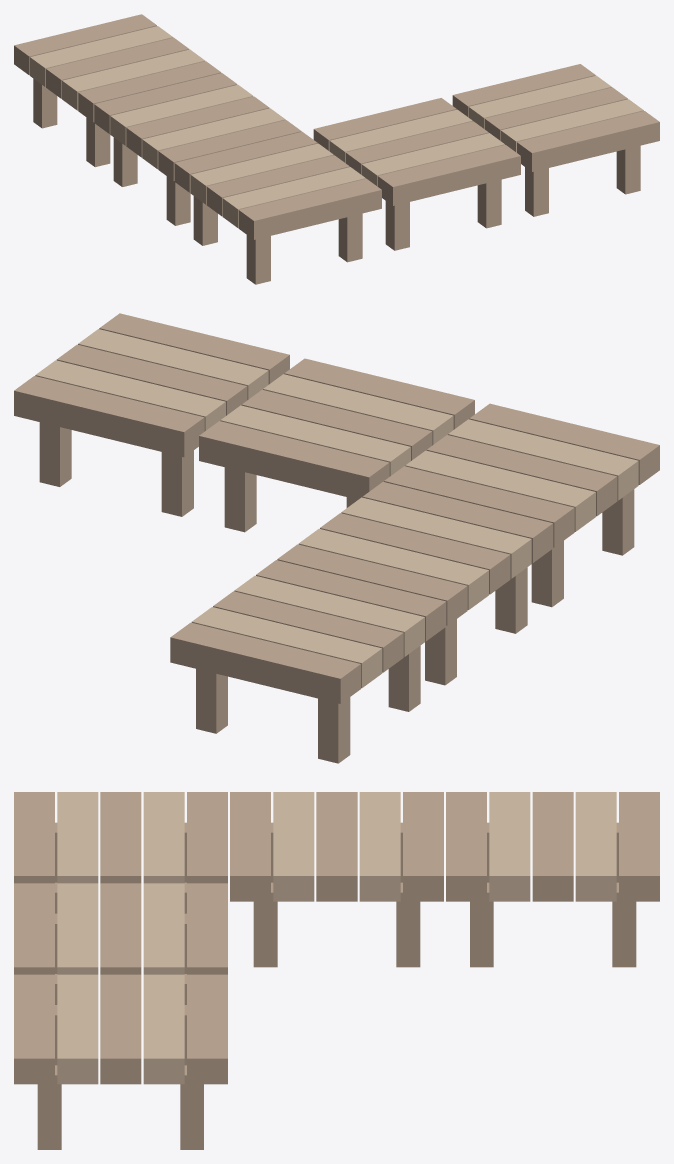
The model's file is boardwalk.glb.
3 renders of one model, top to bottom at view 1: azimuth 30°, elevation 25°; view 2: azimuth 150°, elevation 25°; view 3: azimuth 270°, elevation 25°, orthographic. The views are drawn at different scales.
Parts seen in each view (by area): view 1: boardwalk_8C6B51, boardwalk_AA8865; view 2: boardwalk_8C6B51, boardwalk_AA8865; view 3: boardwalk_8C6B51, boardwalk_AA8865.
Boxes of the visible parts, x1=… form: boardwalk_8C6B51: x1=14, y1=14, x2=659, y2=284; boardwalk_AA8865: x1=30, y1=26, x2=643, y2=227; boardwalk_8C6B51: x1=14, y1=313, x2=659, y2=763; boardwalk_AA8865: x1=35, y1=329, x2=638, y2=688; boardwalk_8C6B51: x1=14, y1=792, x2=659, y2=1149; boardwalk_AA8865: x1=57, y1=792, x2=616, y2=1084.
Bounding box in the file's own units: 2.92 × 0.5 × 2.99.
